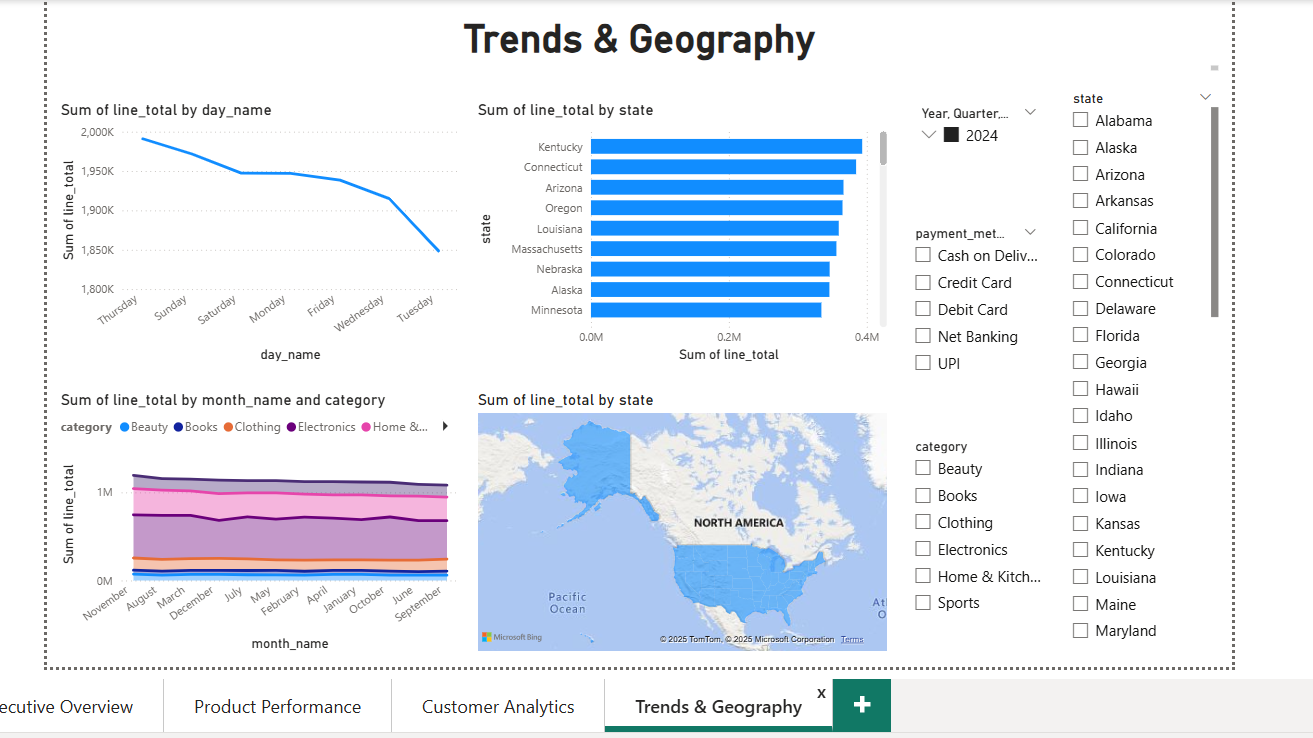

The page's visual inventory and layout, read from the dashboard file:
{"tool":"powerbi","page":{"name":"Trends & Geography","canvas":[1280,720],"ordinal":3},"visuals":[{"type":"textbox","title":"Trends & Geography","box":[9.5,11.1,1259.8,70],"z":0},{"type":"filledMap","fields":{"Category":["warehouse dim_customers.state"]},"box":[459.7,421.5,451.7,286.3],"z":1000},{"type":"clusteredBarChart","fields":{"Category":["warehouse dim_customers.state"],"Y":["Sum(warehouse fact_sales.line_total)"]},"box":[459.7,108.2,451.7,286.3],"z":2000},{"type":"lineChart","fields":{"Category":["warehouse dim_date.day_name"],"Y":["Sum(warehouse fact_sales.line_total)"]},"box":[9.5,108.2,439,286.3],"z":3000},{"type":"stackedAreaChart","fields":{"Category":["warehouse dim_date.month_name"],"Series":["warehouse dim_products.category"],"Y":["Sum(warehouse fact_sales.line_total)"]},"box":[9.5,421.5,439,286.3],"z":4000},{"type":"slicer","fields":{"Values":["warehouse dim_date.full_date.Variation.Date Hierarchy.Year","warehouse dim_date.full_date.Variation.Date Hierarchy.Quarter","warehouse dim_date.full_date.Variation.Date Hierarchy.Month","warehouse dim_date.full_date.Variation.Date Hierarchy.Day"]},"box":[930.5,108.2,149.5,108.2],"z":5000},{"type":"slicer","fields":{"Values":["warehouse dim_products.category"]},"box":[924.1,467.6,155.9,227.5],"z":6000},{"type":"slicer","fields":{"Values":["warehouse dim_customers.state"]},"box":[1094.3,92.3,175,602.8],"z":7000},{"type":"slicer","fields":{"Values":["warehouse dim_payment_method.payment_method_name"]},"box":[924.1,238.6,155.9,210],"z":8000}]}

Visuals, with their boxes on the page's 1280x720 design canvas (x1, y1, x2, y2). These are canvas units, not pixel positions in the 1313x738 screenshot, which may show the page scaled, cropped or inside an application window:
"Trends & Geography" textbox: left=10, top=11, right=1269, bottom=81
filledMap - warehouse dim_customers.state: left=460, top=422, right=911, bottom=708
clusteredBarChart - warehouse dim_customers.state x Sum(warehouse fact_sales.line_total): left=460, top=108, right=911, bottom=394
lineChart - warehouse dim_date.day_name x Sum(warehouse fact_sales.line_total): left=10, top=108, right=448, bottom=394
stackedAreaChart - warehouse dim_date.month_name x warehouse dim_products.category: left=10, top=422, right=448, bottom=708
slicer - warehouse dim_date.full_date.Variation.Date Hierarchy.Year x warehouse dim_date.full_date.Variation.Date Hierarchy.Quarter: left=930, top=108, right=1080, bottom=216
slicer - warehouse dim_products.category: left=924, top=468, right=1080, bottom=695
slicer - warehouse dim_customers.state: left=1094, top=92, right=1269, bottom=695
slicer - warehouse dim_payment_method.payment_method_name: left=924, top=239, right=1080, bottom=449
